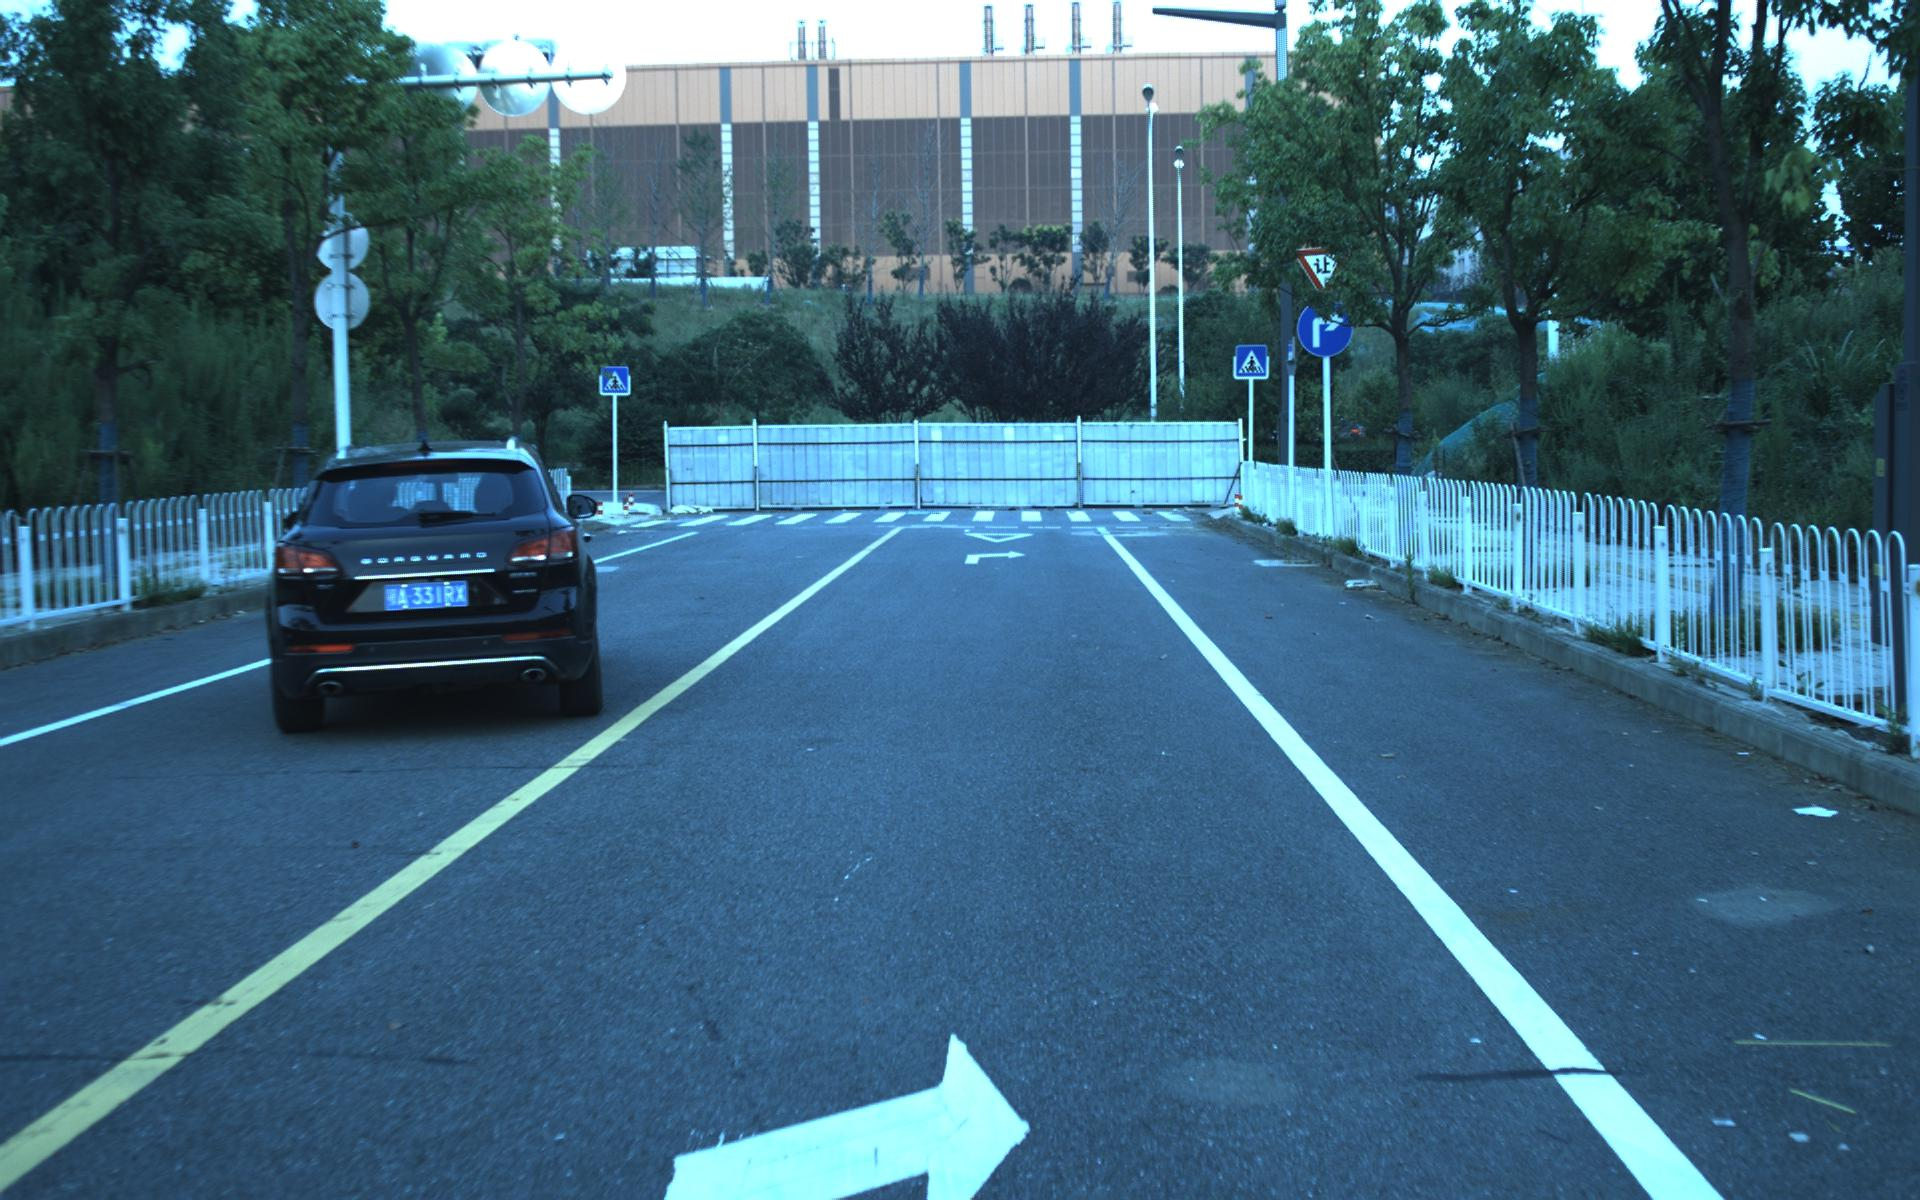Car: (253, 431, 610, 735)
